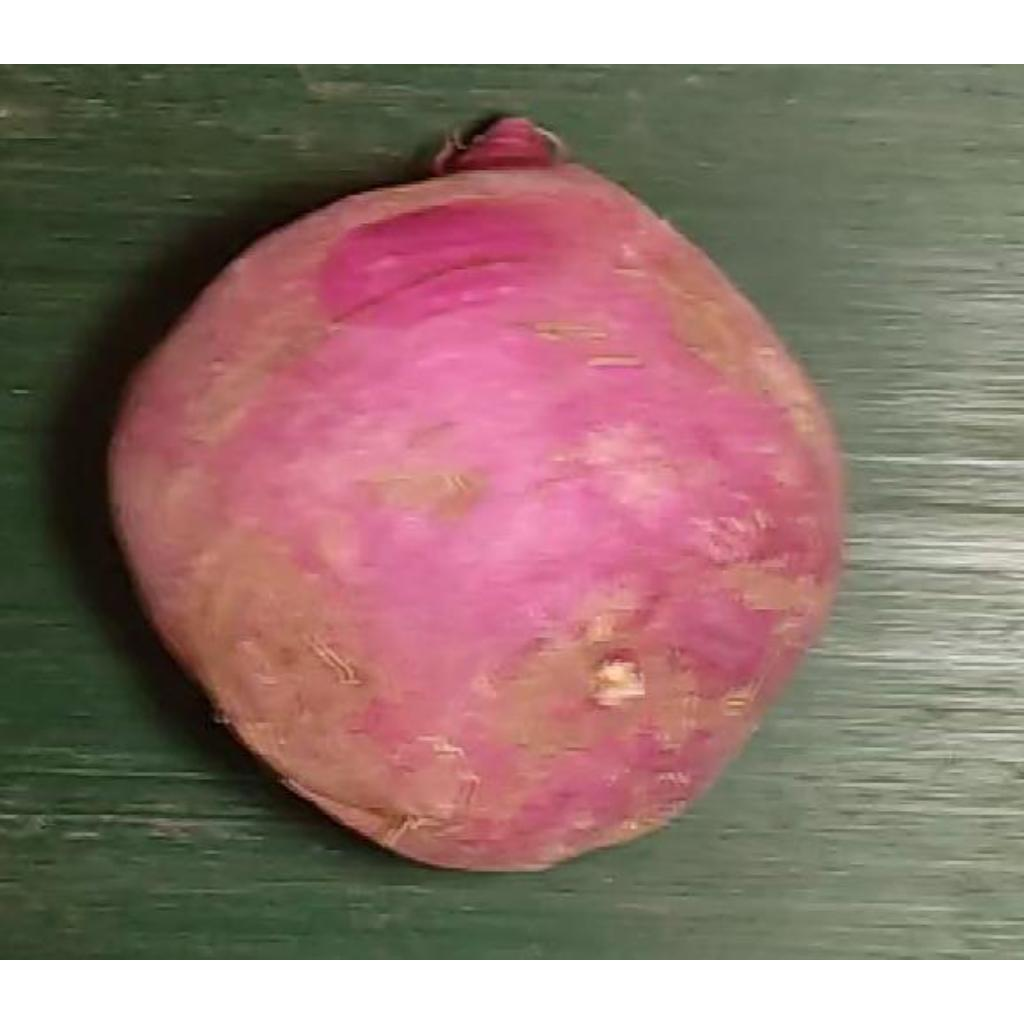Sweet Potato: (108, 115, 843, 875)
